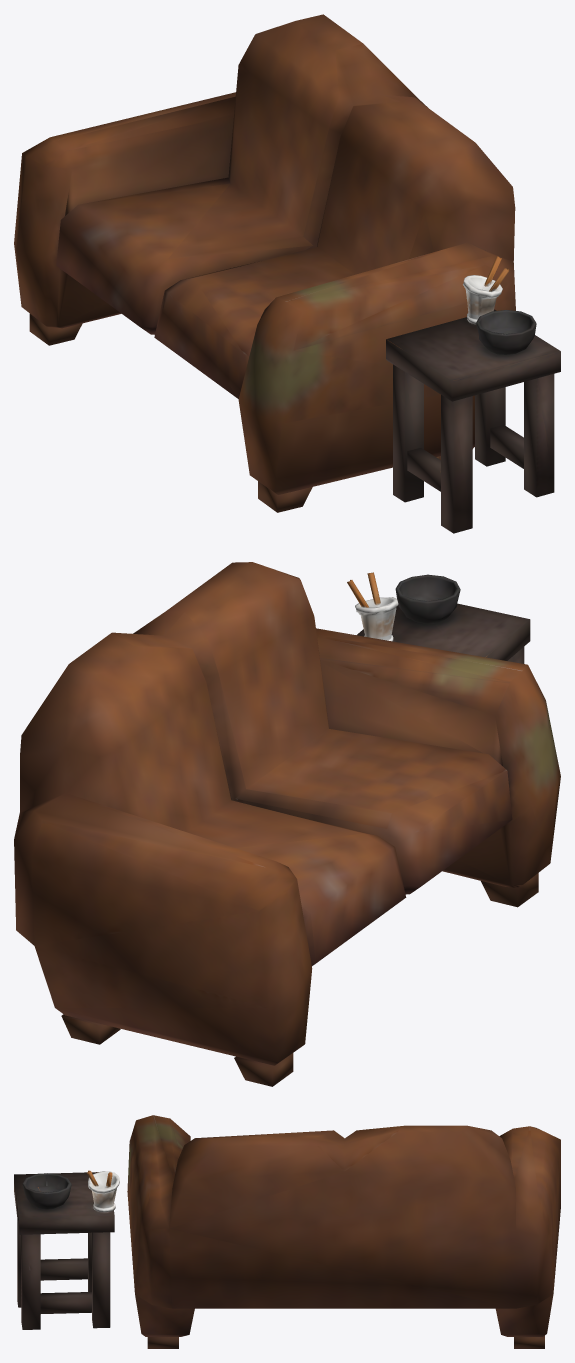
File: sofa_set.glb
3 renders of one model, top to bottom at view 1: azimuth 30°, elevation 25°; view 2: azimuth 150°, elevation 25°; view 3: azimuth 270°, elevation 25°, orthographic. The views are drawn at different scales.
Visible parts, largest first — view 1: tripo_node_2686a5df-0a34-4c8e-89ff-1c9b89a23ba6; view 2: tripo_node_2686a5df-0a34-4c8e-89ff-1c9b89a23ba6; view 3: tripo_node_2686a5df-0a34-4c8e-89ff-1c9b89a23ba6.
Part boxes in pixels (x1,y1,x2,y2): tripo_node_2686a5df-0a34-4c8e-89ff-1c9b89a23ba6: [14, 14, 560, 533]; tripo_node_2686a5df-0a34-4c8e-89ff-1c9b89a23ba6: [14, 562, 560, 1086]; tripo_node_2686a5df-0a34-4c8e-89ff-1c9b89a23ba6: [14, 1115, 560, 1348].
Size of the model in its own units: 0.4785 by 0.4785 by 0.998.
Materials: 1 (1 with a texture image).
